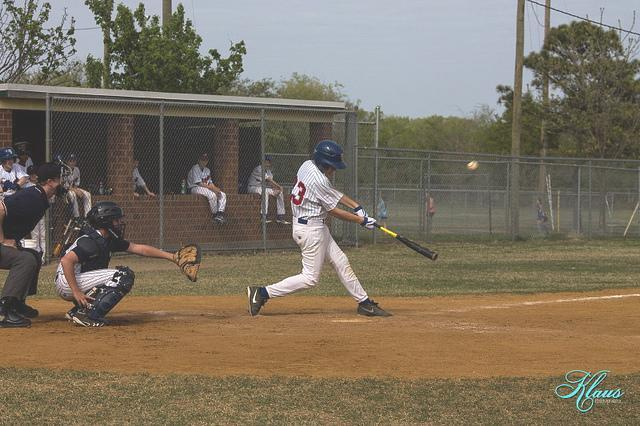baseball bat: (374, 222, 440, 260)
sports ball: (466, 158, 482, 172)
